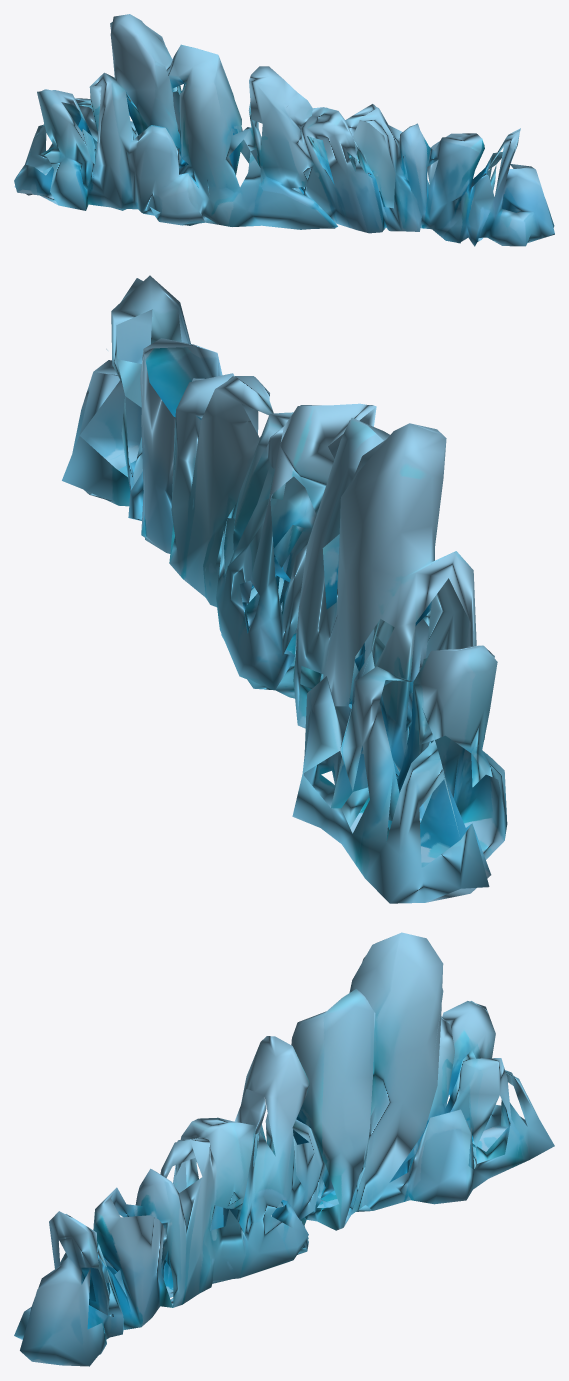
The model's file is led-greben.glb.
3 renders of one model, top to bottom at view 1: azimuth 30°, elevation 25°; view 2: azimuth 150°, elevation 25°; view 3: azimuth 270°, elevation 25°, orthographic. The views are drawn at different scales.
Parts seen in each view (by area): view 1: geometry_0; view 2: geometry_0; view 3: geometry_0.
Part boxes in pixels (x1=…): geometry_0: x1=14, y1=14, x2=554, y2=246; geometry_0: x1=62, y1=275, x2=507, y2=903; geometry_0: x1=14, y1=932, x2=554, y2=1366.
Bounding box in the file's own units: 0.9936 × 0.5051 × 0.9587.
Materials: 1 (1 with a texture image).
